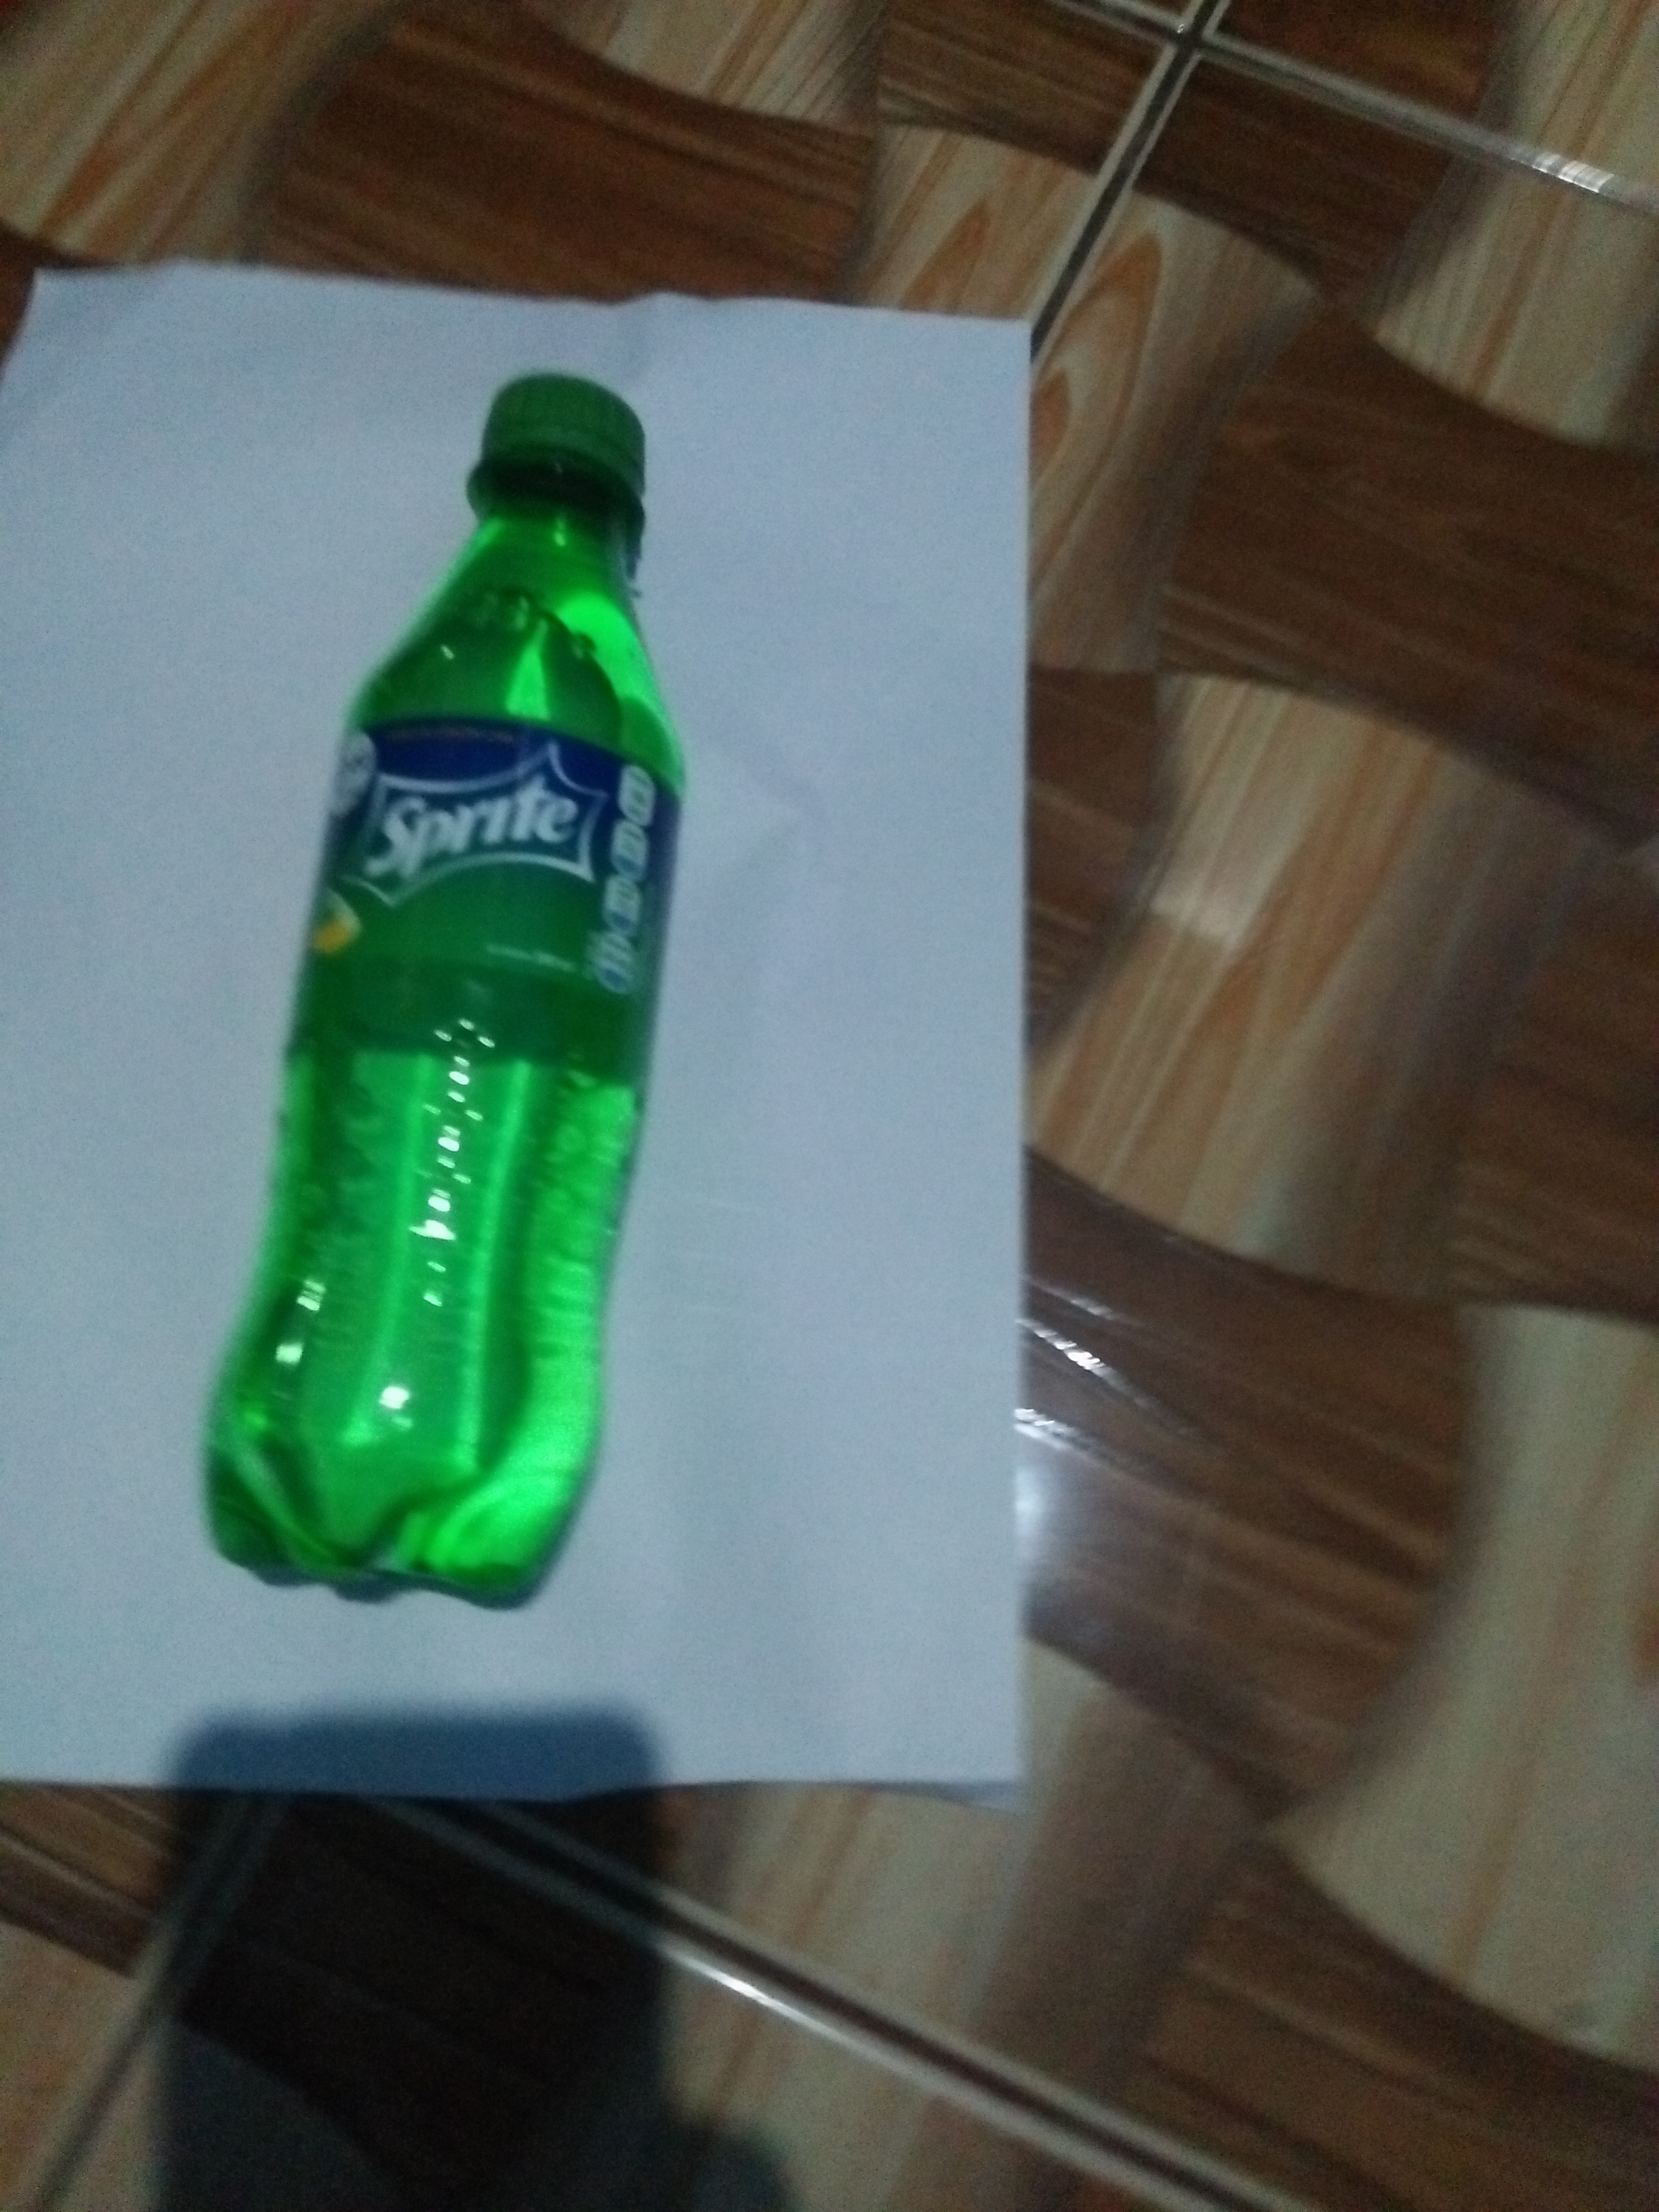Sprite: (173, 338, 714, 1655)
